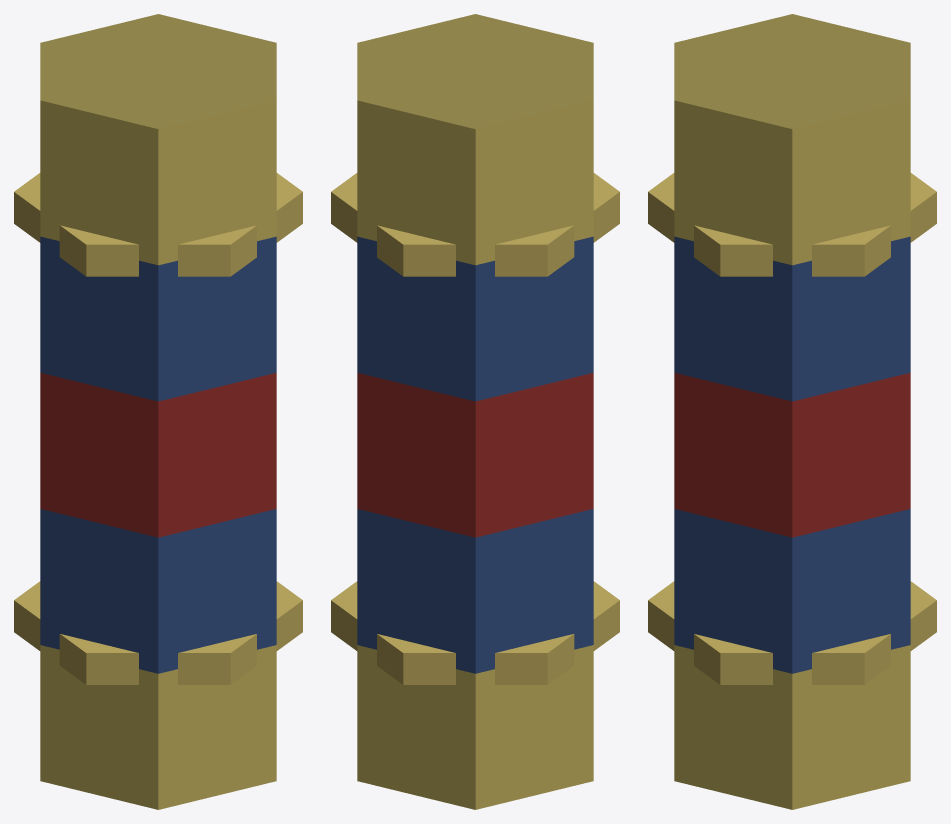
File: kente-throw-roll-02.glb
The picture shows the model from 3 angles, left to right: view 1: azimuth 30°, elevation 25°; view 2: azimuth 150°, elevation 25°; view 3: azimuth 270°, elevation 25°; orthographic projection.
Parts seen in each view (by area): view 1: kente_throw_roll_02; view 2: kente_throw_roll_02; view 3: kente_throw_roll_02.
Part boxes in pixels (x1,y1,x2,y2): kente_throw_roll_02: (14, 14, 302, 809); kente_throw_roll_02: (331, 14, 619, 809); kente_throw_roll_02: (648, 14, 936, 809).
Size of the model in its own units: 0.2319 by 0.6388 by 0.2458.
